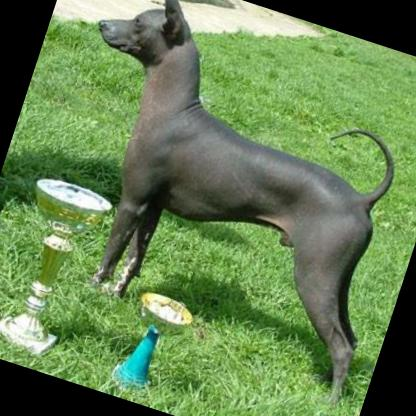Mexican_hairless: (7, 0, 416, 404)
